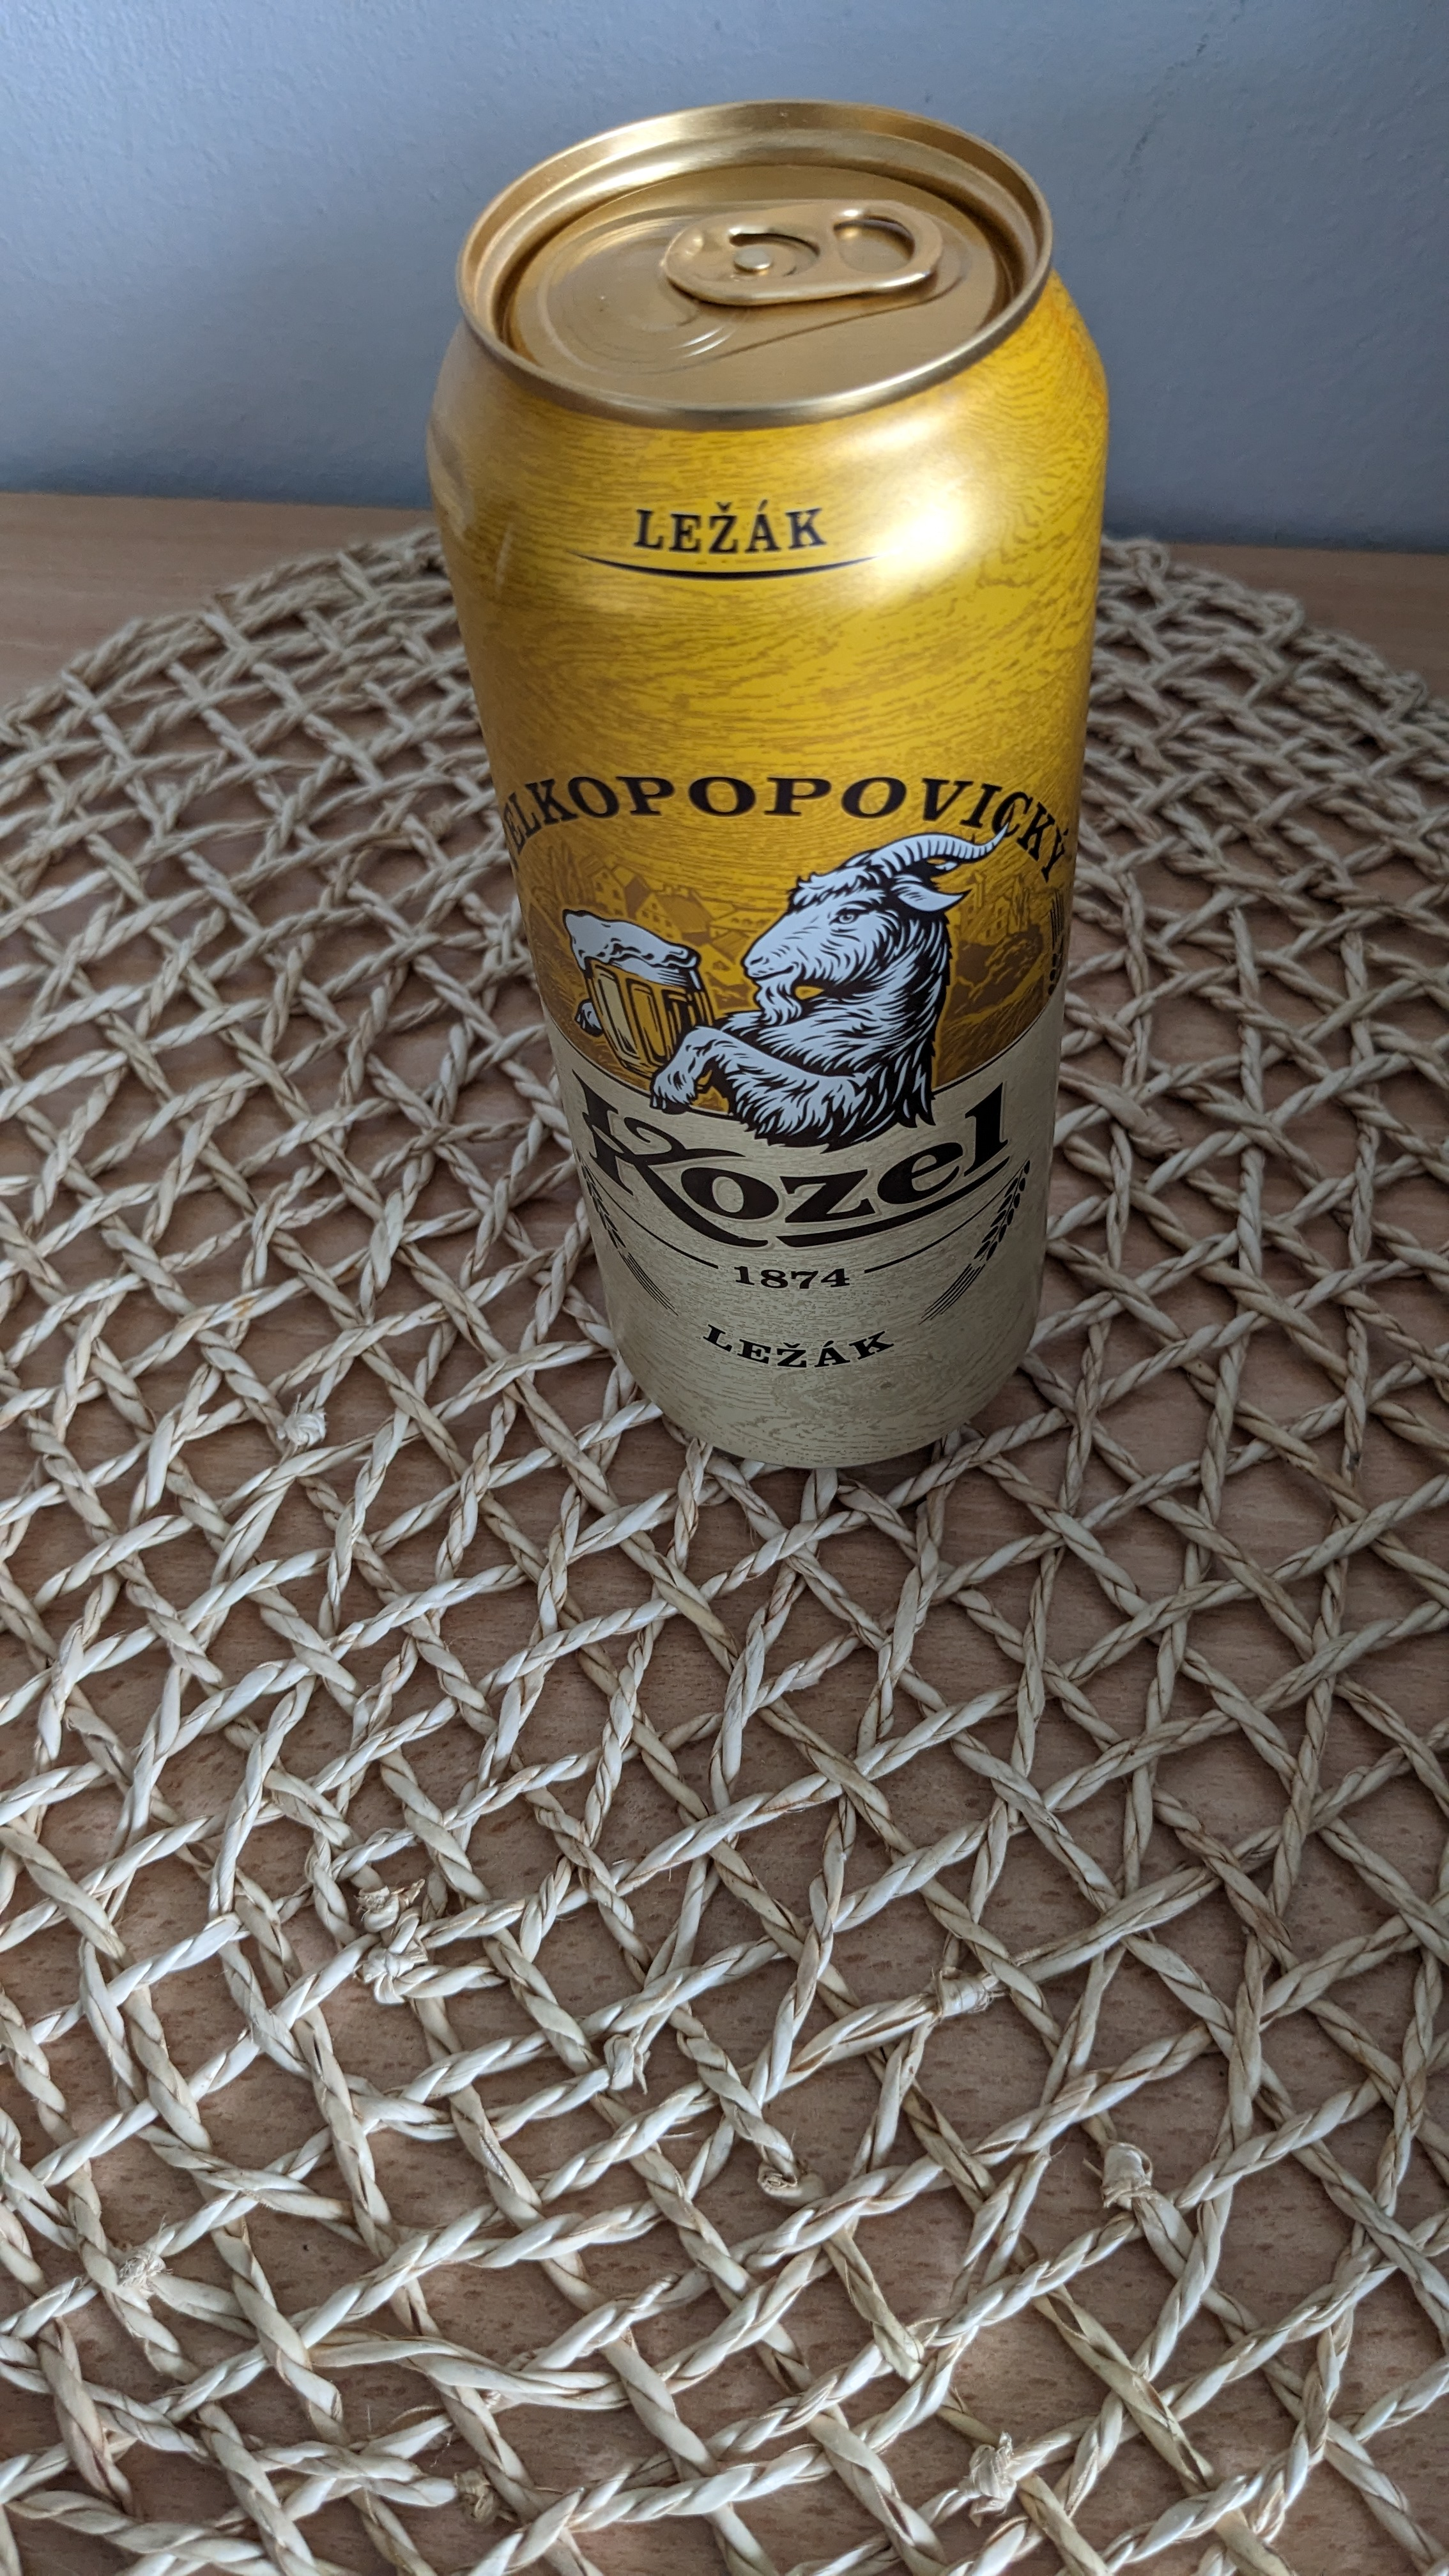kozel: (407, 85, 1122, 1499)
